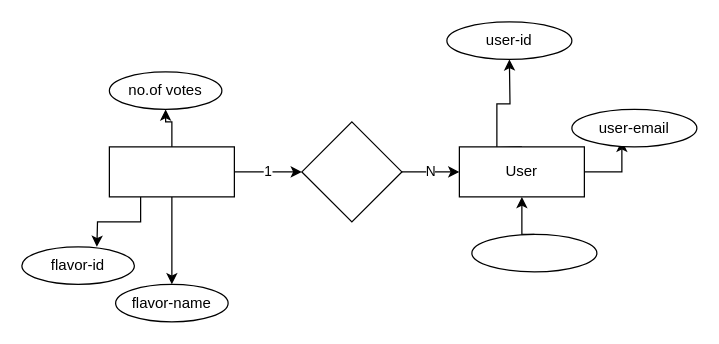
Image size: 719x344. Some labels were removed from this diagram. The centre of each missing label's shape, as x and y in pixels:
"flavor" belongs at pixel 171 171.
"user-name" belongs at pixel 534 252.
"voted by" belongs at pixel 351 171.
